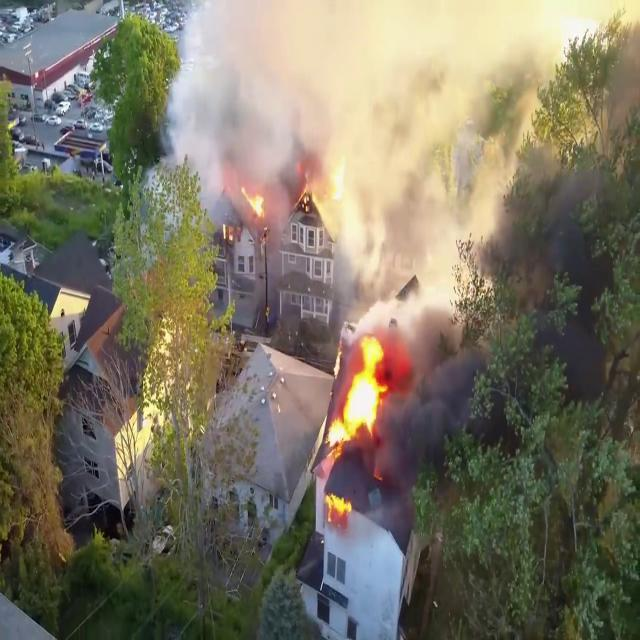Fire: (324, 332, 392, 452), (240, 184, 266, 223)
Smoke: (310, 0, 530, 314), (158, 0, 400, 200)
